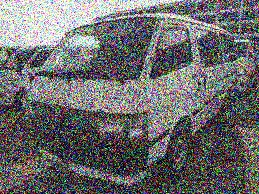van: (20, 14, 244, 176)
